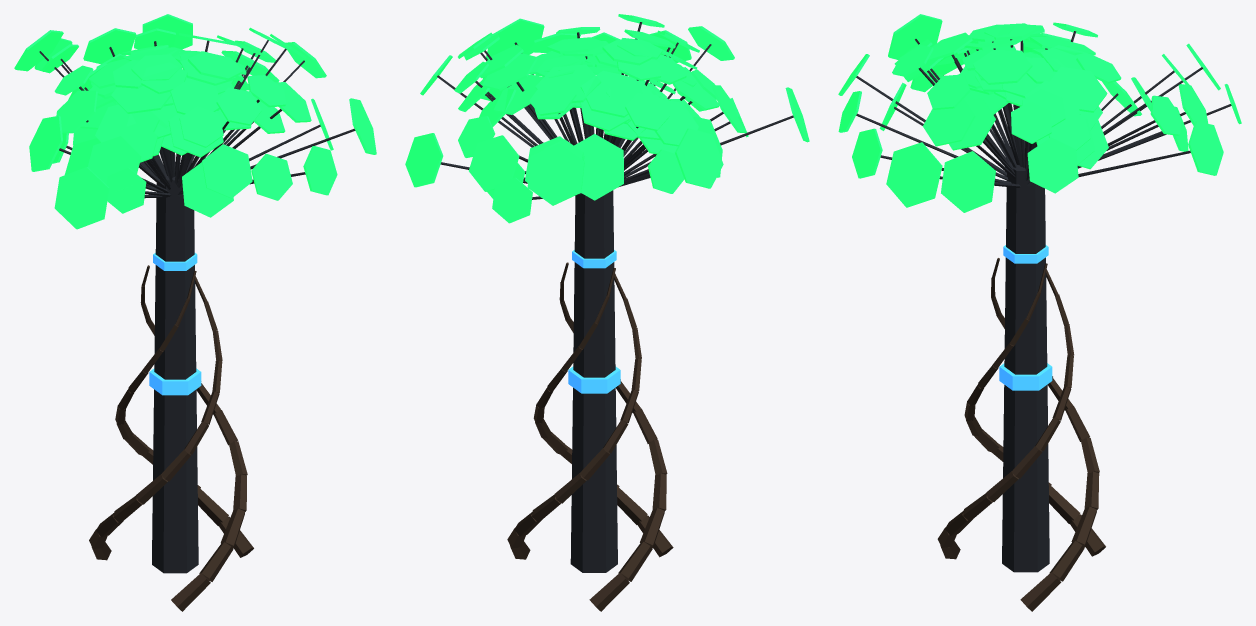
Rendered from tree_tech.glb.
3 renders of one model, left to right at view 1: azimuth 30°, elevation 25°; view 2: azimuth 150°, elevation 25°; view 3: azimuth 270°, elevation 25°, orthographic. The views are drawn at different scales.
Parts seen in each view (by area): view 1: TreeTech; view 2: TreeTech; view 3: TreeTech.
Boxes of the visible parts, x1,y1,x2,y2 form: TreeTech: [14, 14, 376, 611]; TreeTech: [405, 14, 809, 611]; TreeTech: [838, 14, 1241, 611].
Size of the model in its own units: 6.03 by 9.37 by 6.41.
